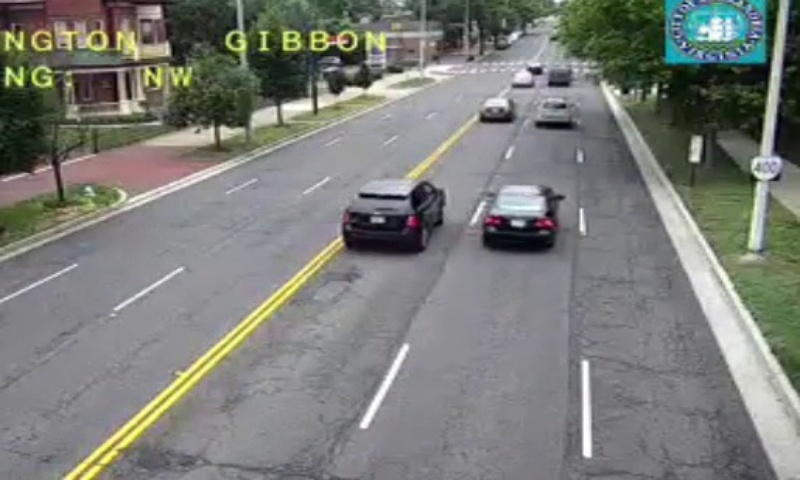car: (343, 178, 445, 248), (482, 183, 558, 245), (535, 98, 571, 124), (479, 97, 510, 122)
